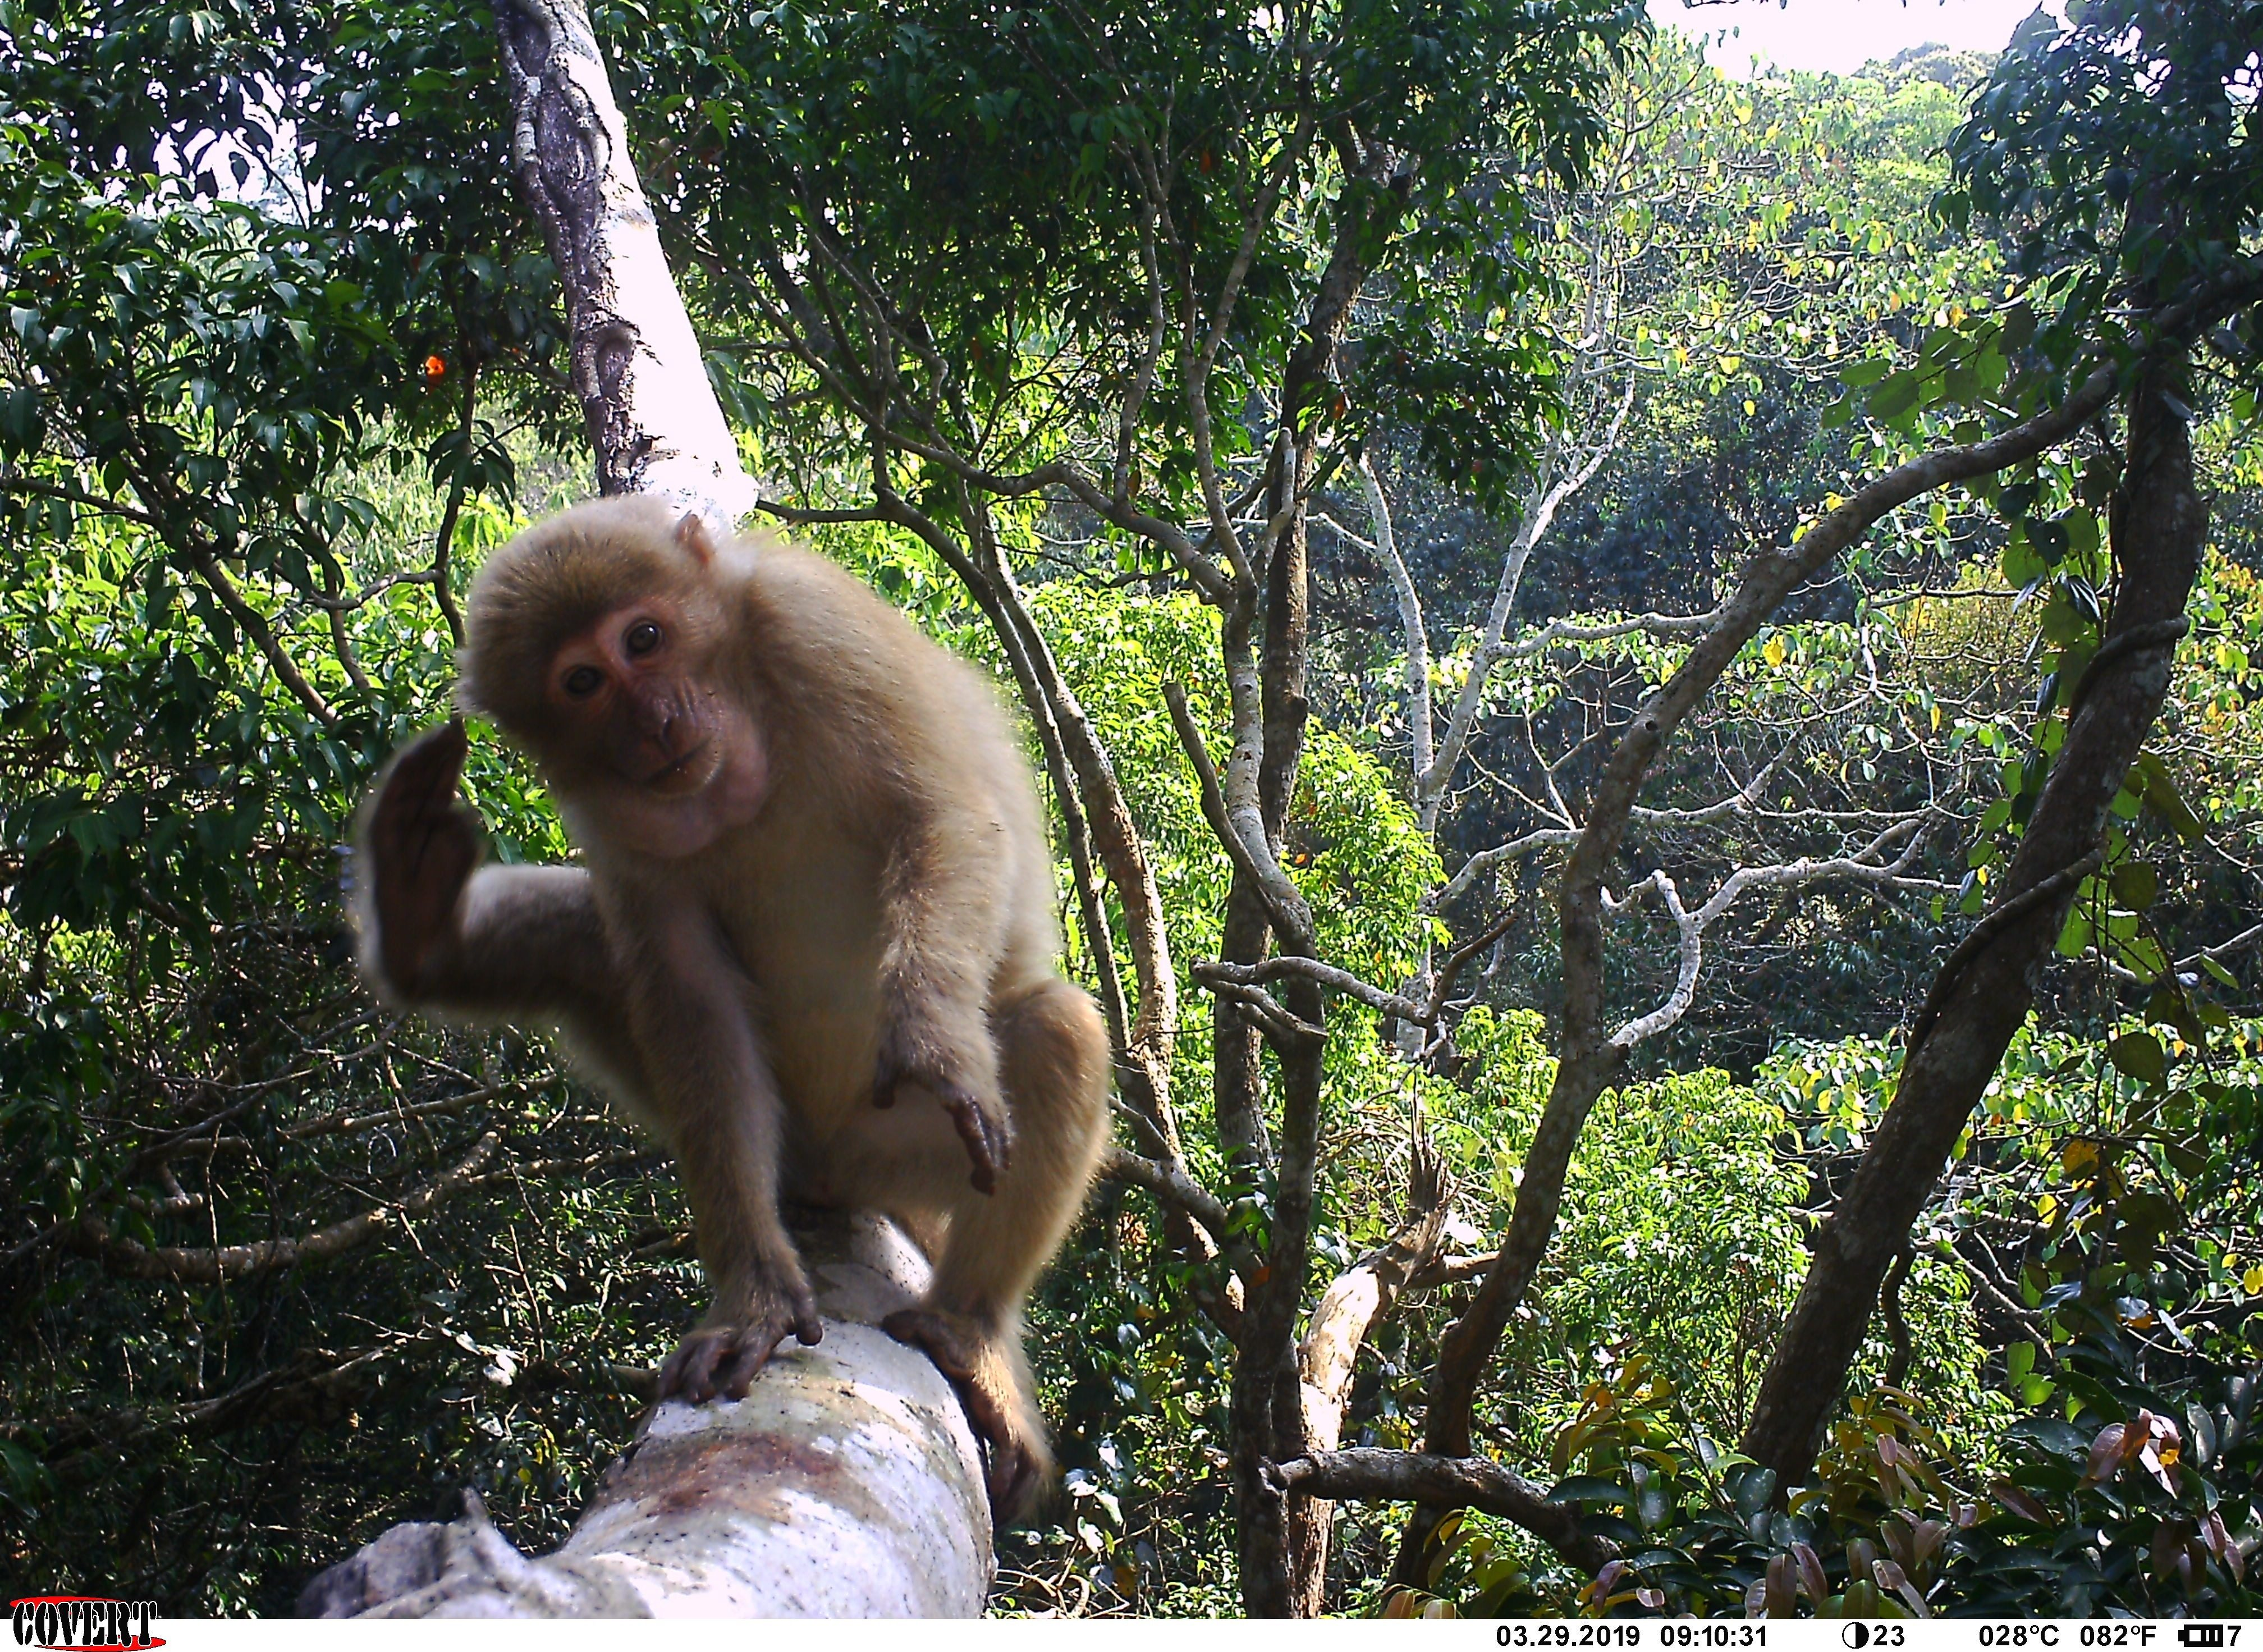monkey: (343, 464, 1226, 1517)
